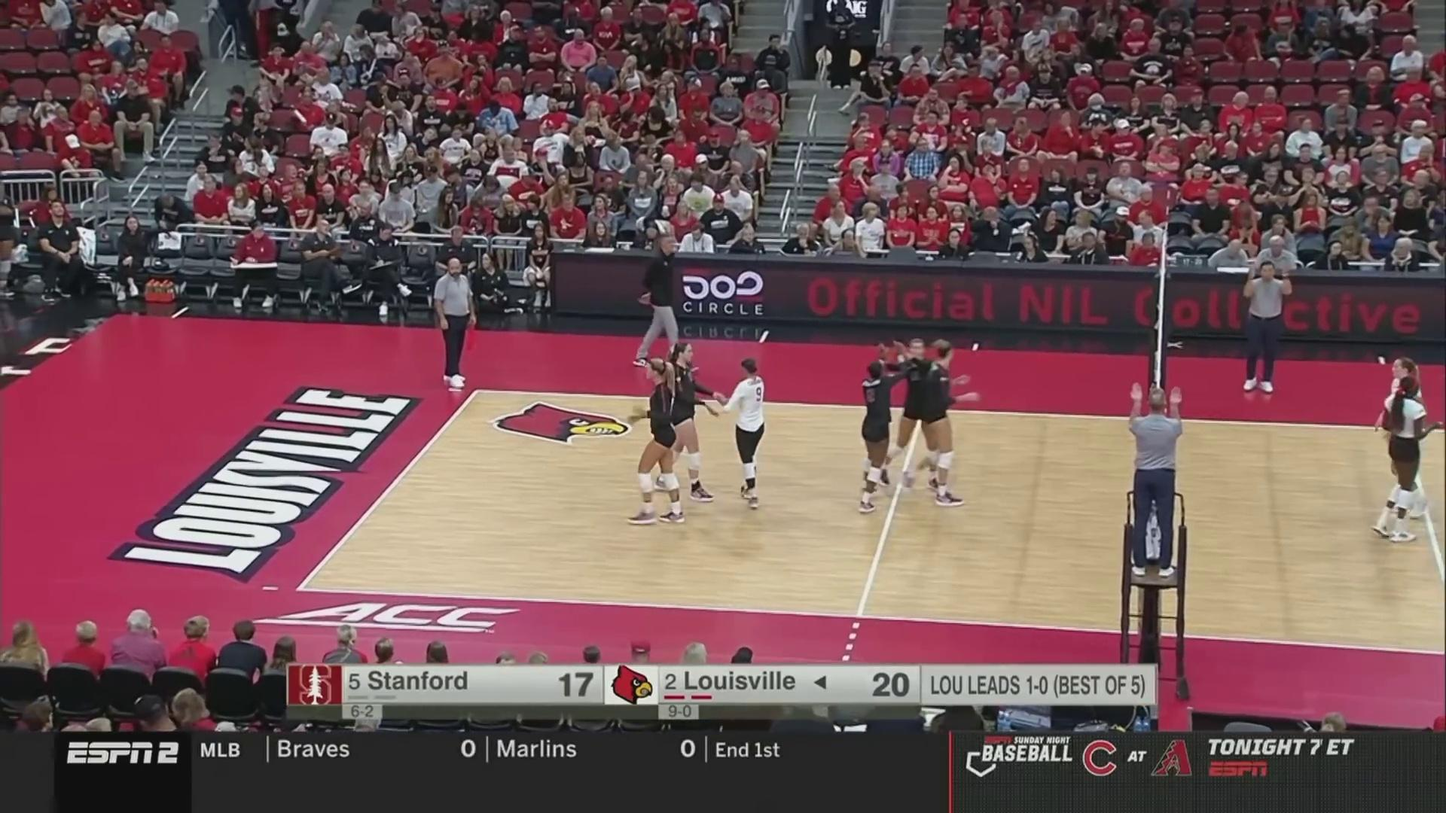player: (1379, 377, 1442, 544), (655, 342, 720, 501), (879, 336, 947, 486), (626, 355, 685, 527), (924, 341, 978, 510), (862, 355, 910, 510), (722, 357, 768, 510), (1381, 359, 1424, 511)
refree: (1130, 384, 1186, 571), (1244, 258, 1293, 394), (435, 259, 475, 391)
